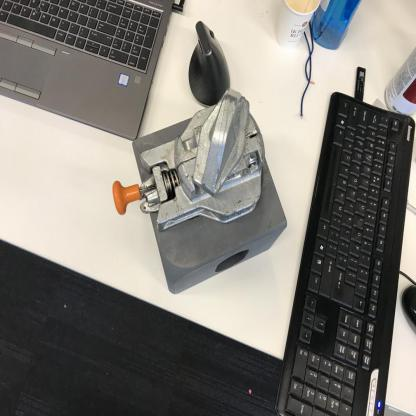CornerCasting: (133, 184, 291, 295)
Twistlock: (110, 80, 272, 238)
